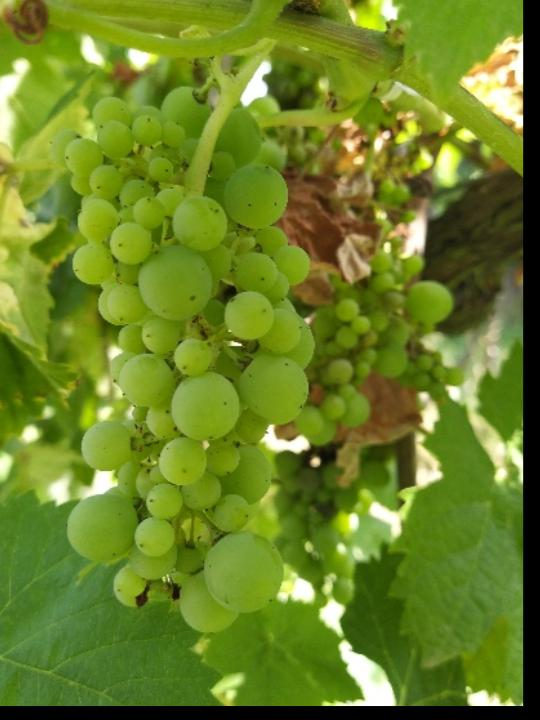grape: (60, 80, 316, 635)
